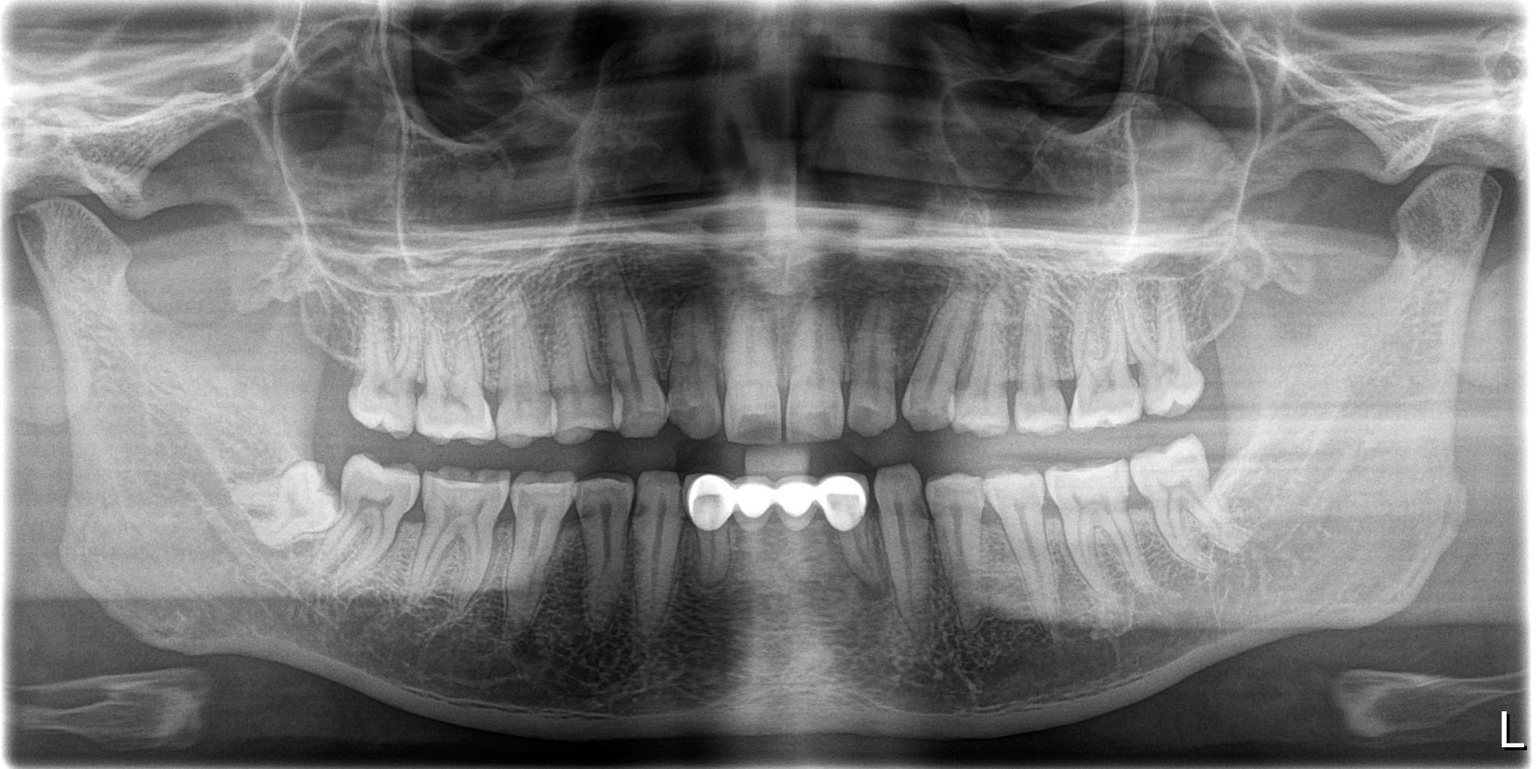Endodontically Treated Tooth: (684, 476, 887, 618)
Impacted Third Molar: (223, 474, 346, 544)
